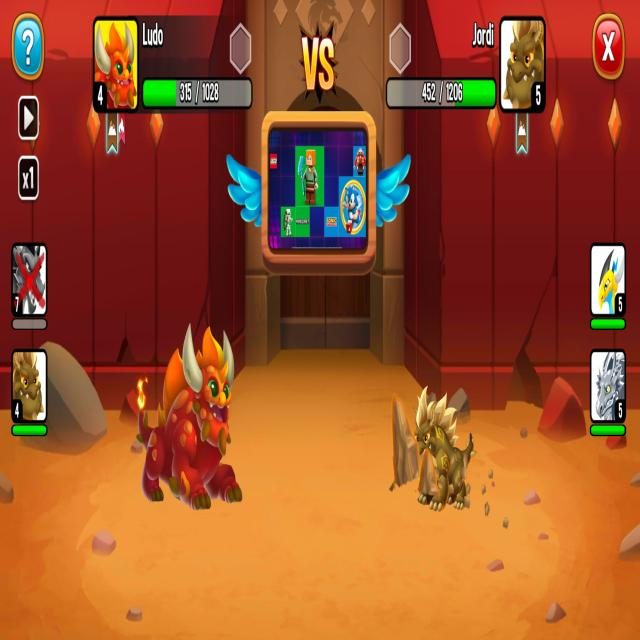billboard: (265, 119, 372, 262)
